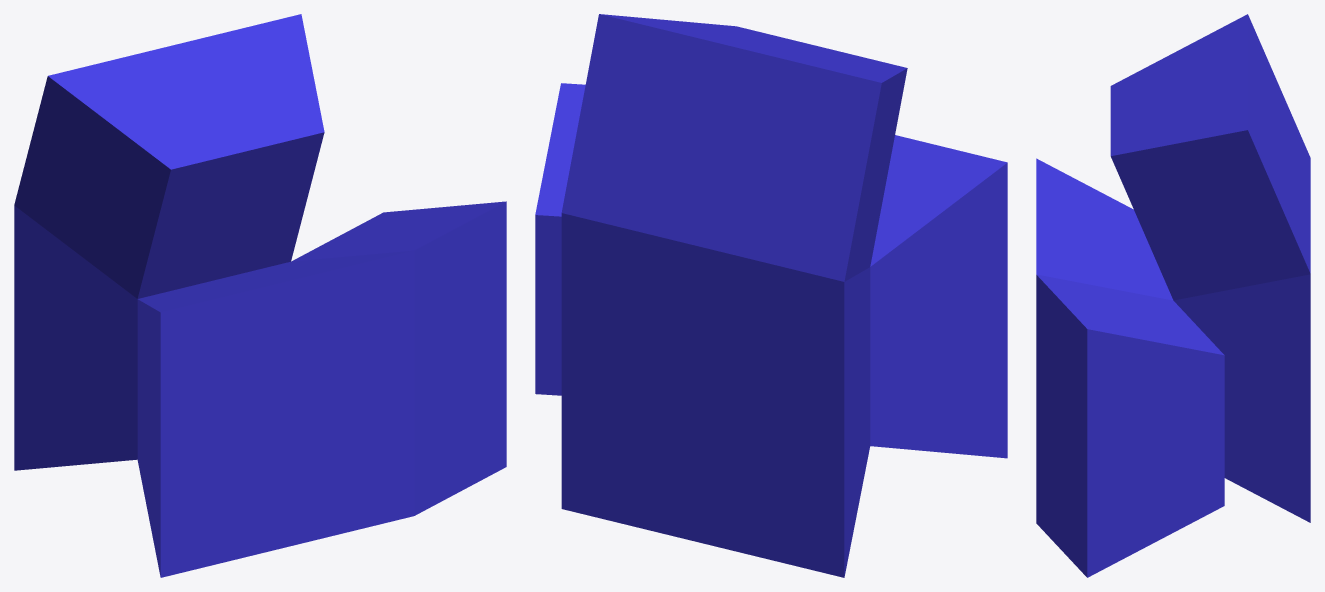
The model's file is testexport.glb.
The picture shows the model from 3 angles, left to right: view 1: azimuth 30°, elevation 25°; view 2: azimuth 150°, elevation 25°; view 3: azimuth 270°, elevation 25°; orthographic projection. The views are drawn at different scales.
Parts seen in each view (by area): view 1: Cube; view 2: Cube; view 3: Cube.
Part boxes in pixels (x1,y1,x2,y2): Cube: (14, 14, 506, 577); Cube: (535, 14, 1007, 577); Cube: (1036, 14, 1310, 577).
Size of the model in its own units: 2.94 by 3.16 by 2.
